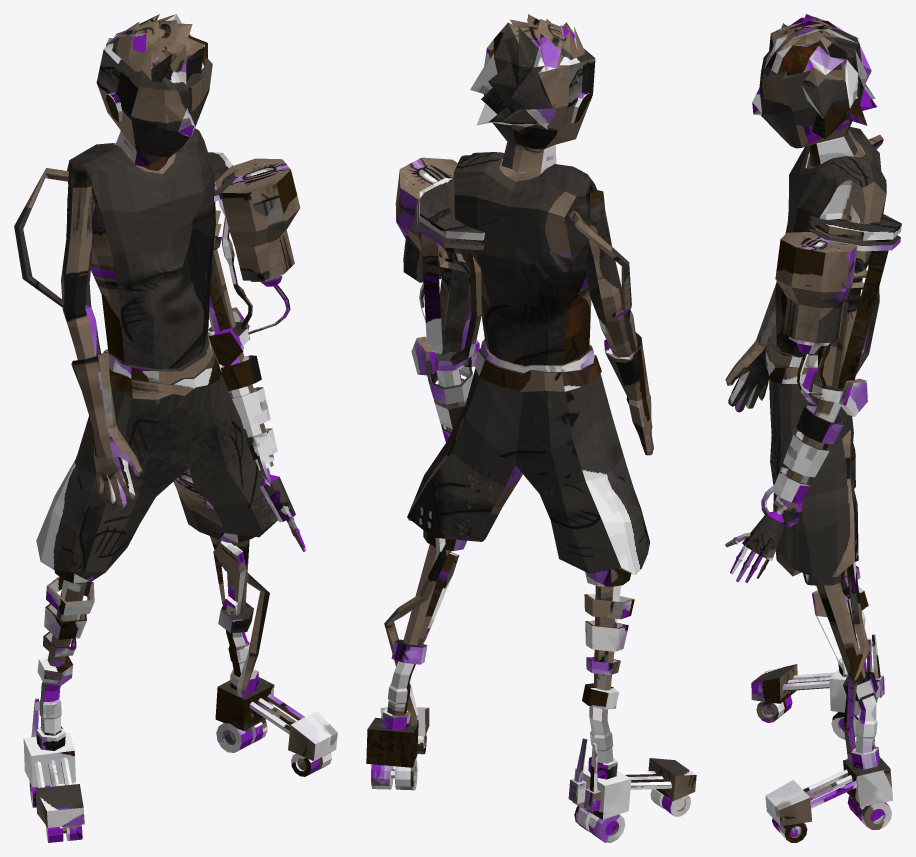
The model's file is CyborgFINALAnimation_000042.obj.
3 views of the same model, side by side, from view 1: azimuth 30°, elevation 25°; view 2: azimuth 150°, elevation 25°; view 3: azimuth 270°, elevation 25° (orthographic). The views are drawn at different scales.
Visible parts, largest first — view 1: CyborgMesh_Cube.002; view 2: CyborgMesh_Cube.002; view 3: CyborgMesh_Cube.002.
Boxes of the visible parts, <box> form: CyborgMesh_Cube.002: <box>14,14,337,842</box>; CyborgMesh_Cube.002: <box>366,14,696,842</box>; CyborgMesh_Cube.002: <box>725,14,901,842</box>.
Size of the model in its own units: 3.85 by 9.66 by 2.06.
